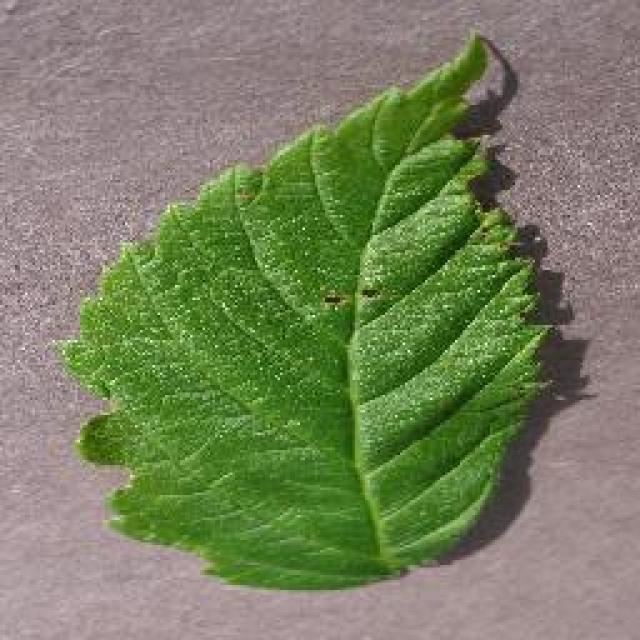Ras_healthy: (96, 141, 553, 553)
